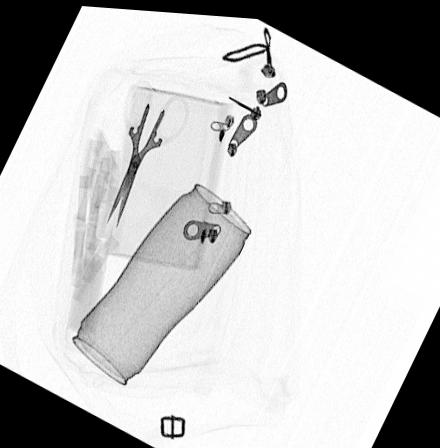Scissors: (106, 75, 191, 226)
